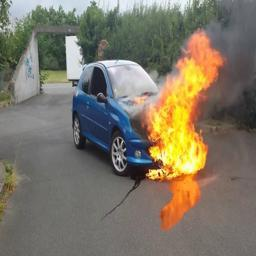fire: (143, 29, 227, 176)
